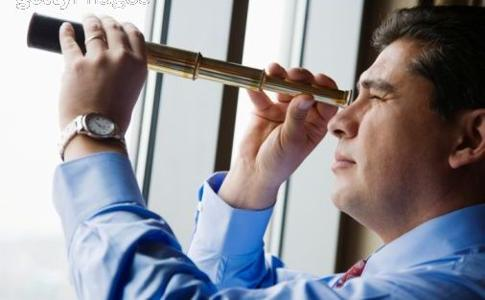person: (54, 6, 485, 300)
